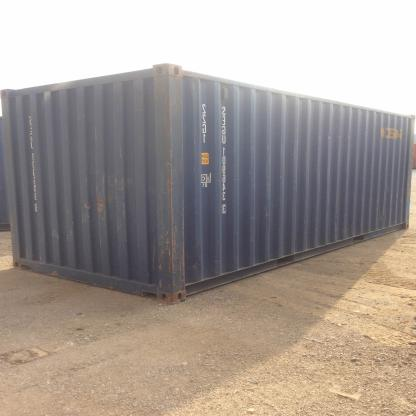Damage: (150, 74, 186, 300), (77, 170, 129, 235), (326, 209, 362, 242), (264, 170, 274, 224), (372, 206, 388, 228), (323, 132, 354, 140), (189, 256, 201, 273), (90, 124, 100, 144), (212, 256, 226, 270), (278, 168, 286, 191), (364, 124, 386, 132), (117, 142, 127, 158), (248, 172, 256, 190), (230, 175, 242, 181)
